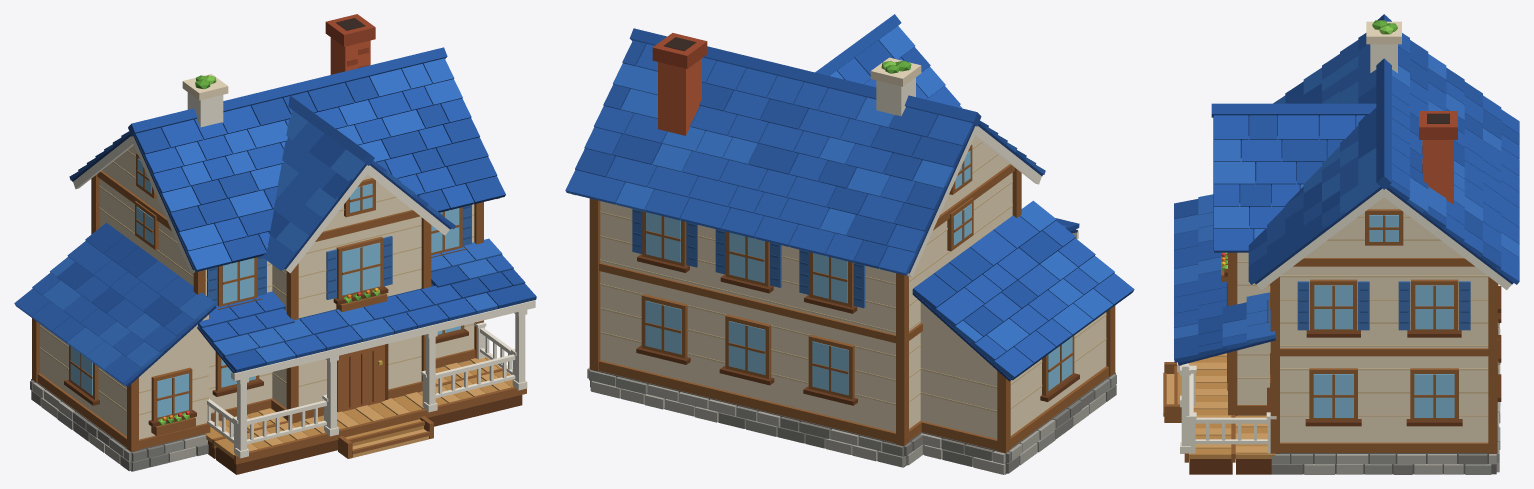
Rendered from house-4.glb.
The picture shows the model from 3 angles, left to right: view 1: azimuth 30°, elevation 25°; view 2: azimuth 150°, elevation 25°; view 3: azimuth 270°, elevation 25°; orthographic projection. The views are drawn at different scales.
Visible parts, largest first — view 1: H4_Roof, H4_Porch, H4_Walls, H4_Openings, H4_Timber, H4_Props, H4_Foundation; view 2: H4_Roof, H4_Walls, H4_Openings, H4_Timber, H4_Foundation, H4_Props; view 3: H4_Roof, H4_Walls, H4_Porch, H4_Openings, H4_Timber, H4_Foundation, H4_Props.
Part boxes in pixels (bbox=[...]): H4_Roof: bbox=[14, 47, 505, 386]; H4_Porch: bbox=[197, 238, 536, 474]; H4_Walls: bbox=[39, 145, 474, 439]; H4_Openings: bbox=[64, 153, 471, 436]; H4_Timber: bbox=[32, 170, 483, 451]; H4_Props: bbox=[182, 14, 375, 127]; H4_Foundation: bbox=[30, 360, 470, 471]; H4_Roof: bbox=[565, 14, 1134, 381]; H4_Walls: bbox=[600, 136, 1106, 439]; H4_Openings: bbox=[632, 144, 1079, 405]; H4_Timber: bbox=[589, 164, 1115, 453]; H4_Foundation: bbox=[587, 367, 1116, 474]; H4_Props: bbox=[652, 33, 921, 135]; H4_Roof: bbox=[1211, 14, 1519, 290]; H4_Walls: bbox=[1237, 197, 1488, 442]; H4_Porch: bbox=[1163, 194, 1276, 474]; H4_Openings: bbox=[1221, 209, 1501, 426]; H4_Timber: bbox=[1228, 252, 1497, 453]; H4_Foundation: bbox=[1237, 323, 1500, 474]; H4_Props: bbox=[1366, 20, 1457, 204].
Bounding box in the file's own units: 6.13 × 4.77 × 4.59.
